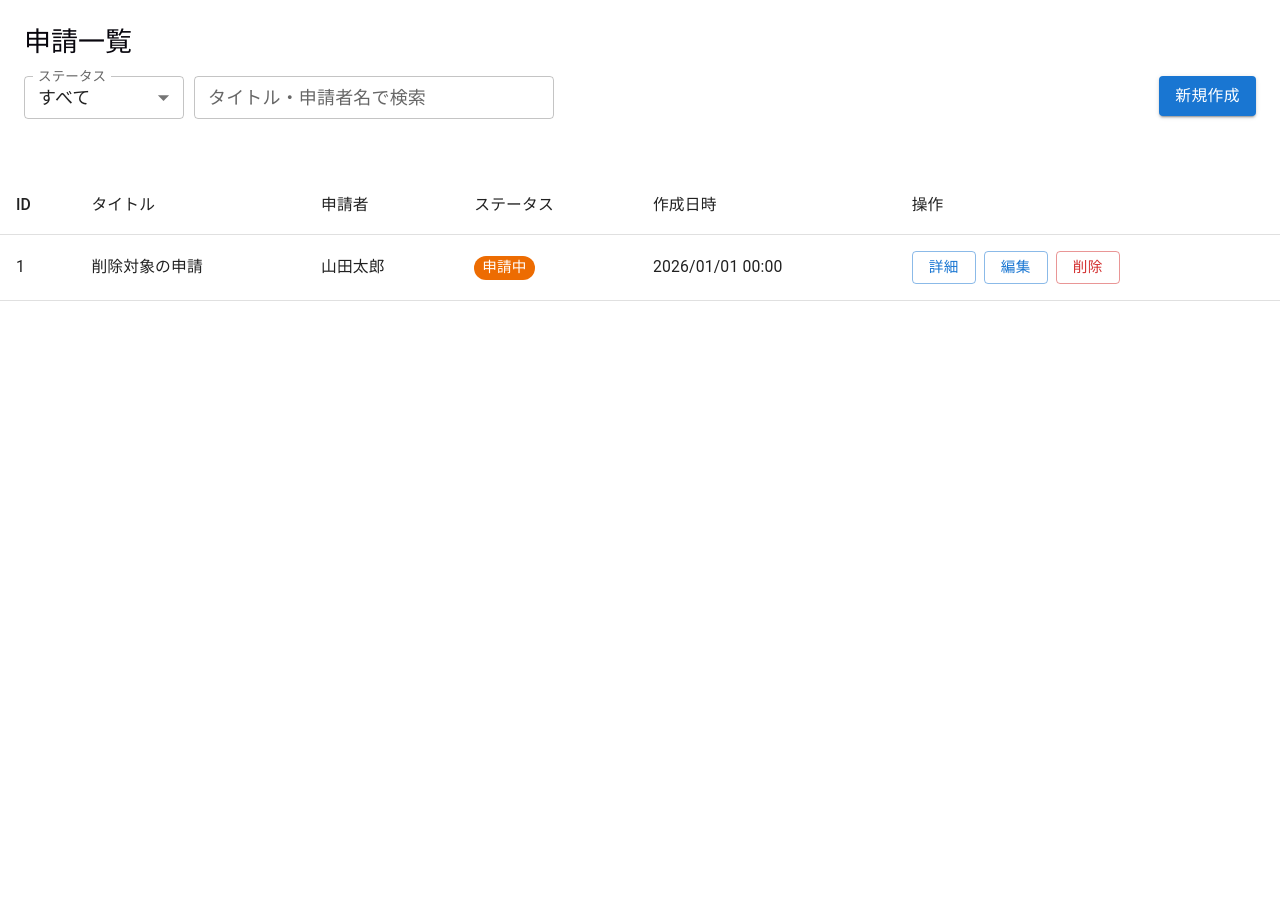
Test: ApplicationListPage › 削除APIが失敗した場合にエラーメッセージを表示すること
This screenshot has width=1280, height=900.
Expected: the text "削除対象の申請" is shown, [75,234,305,301]
What coordinates should you click on to do the following:
click the button "削除"
I would click on:
 (1088, 268)
Its box is [1056,251,1120,284].
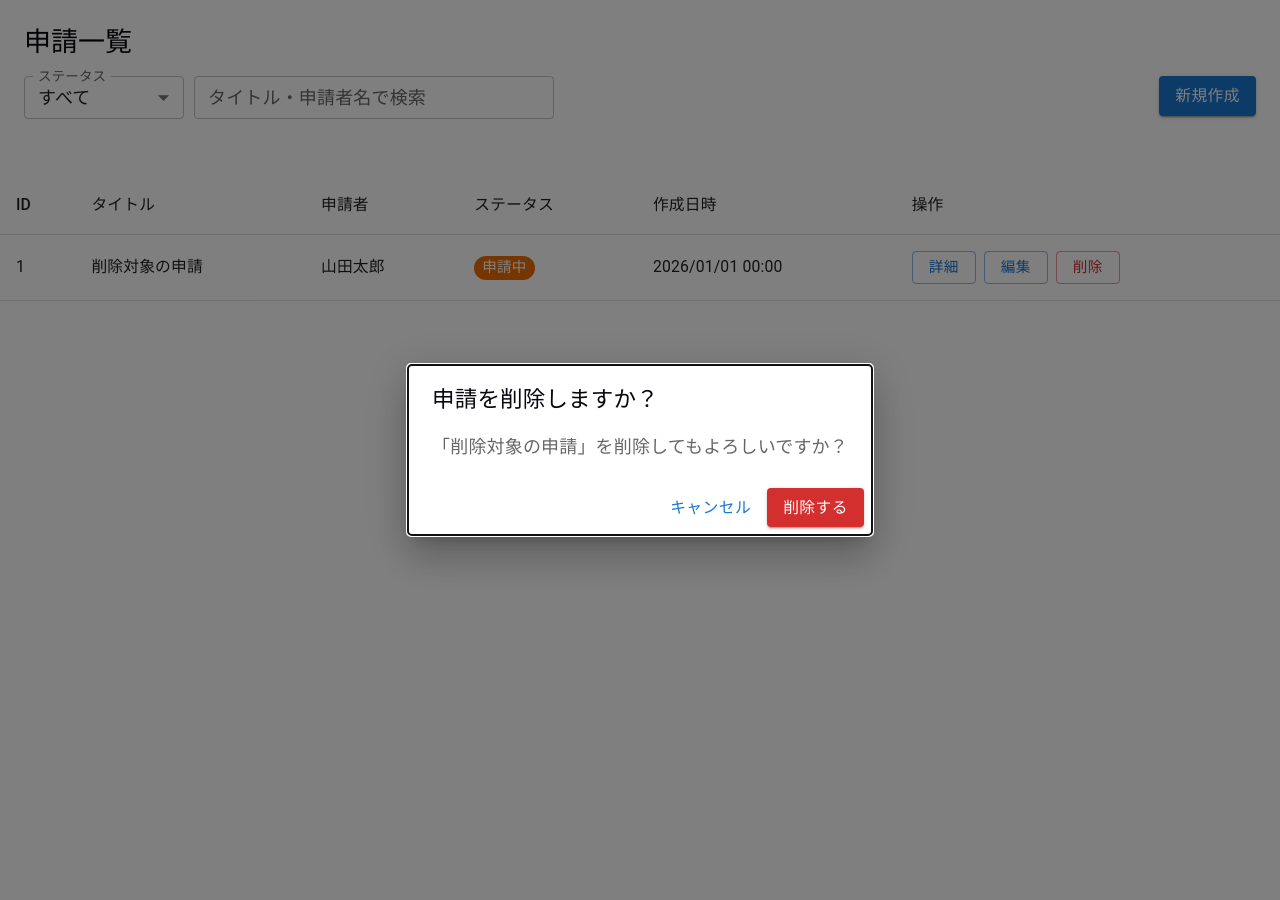
Expected: the dialog "申請を削除しますか？" is shown, [408,365,872,535]
Expected: the text "「削除対象の申請」を削除してもよろしいですか？" is shown, [432,433,848,460]
What coordinates should you click on to do the following:
click the button "削除する"
I would click on:
 (816, 508)
Its box is [767,488,864,527].
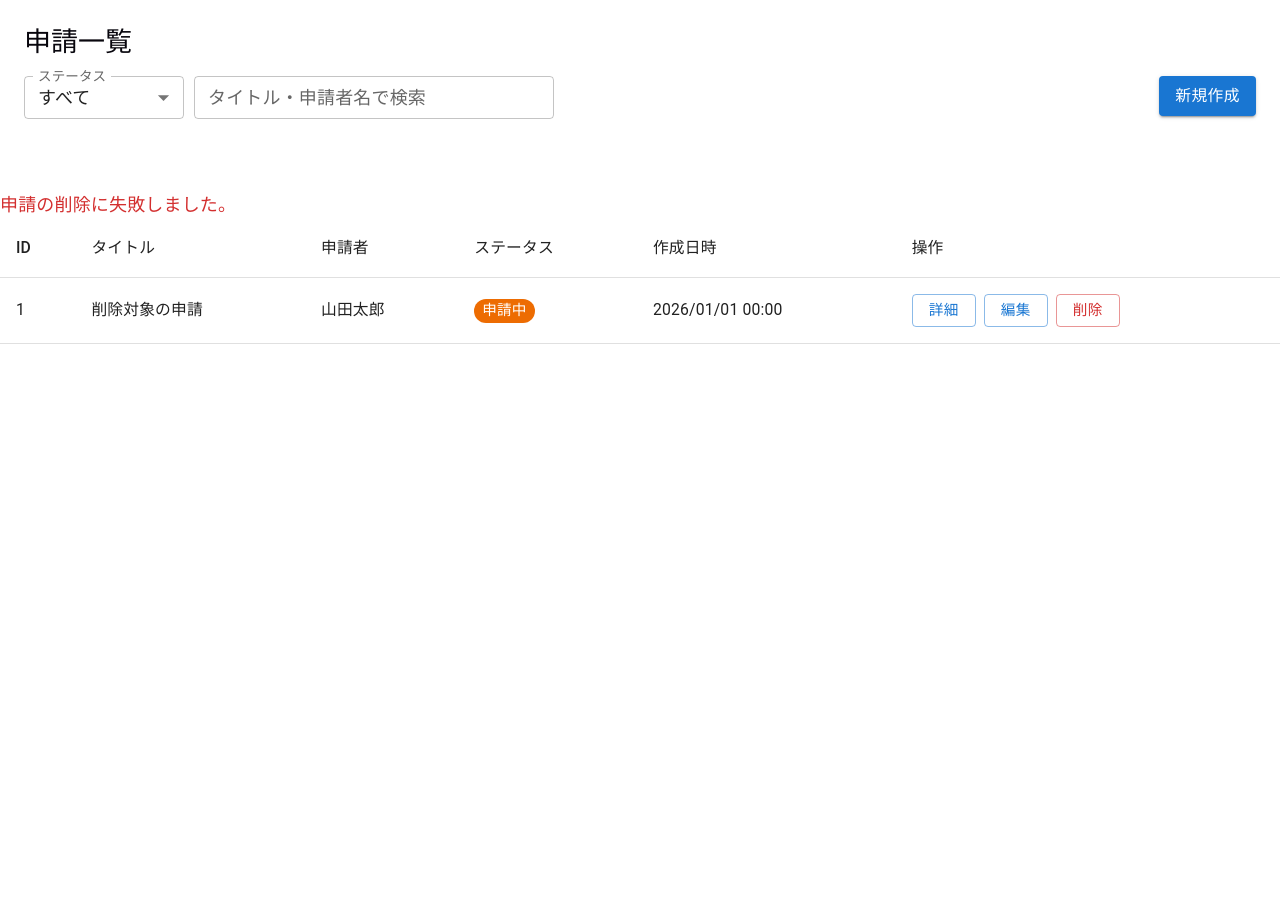
Expected: the text "削除対象の申請" is shown, [75,277,305,344]
Expected: the text "申請の削除に失敗しました。" is shown, [0,194,236,215]
